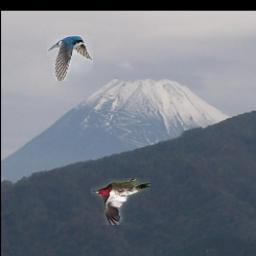Swallow: (47, 36, 93, 82)
Woodpecker: (92, 178, 152, 225)
